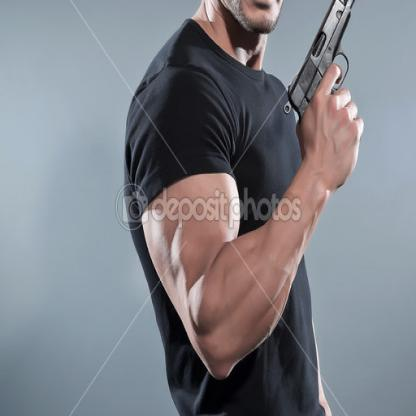gun: (287, 0, 370, 196)
